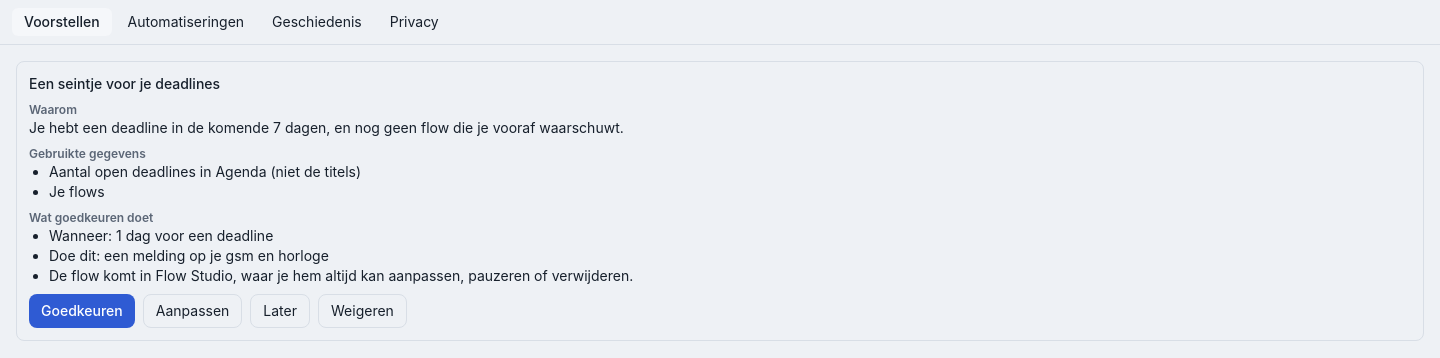
Intelligence app › declines a proposal and keeps the rule quiet
Expected: the heading "Een seintje voor je deadlines" is shown, [29,75,220,92]
Step 1. Click the button "Weigeren" → click(362, 311), box [318,294,407,328]
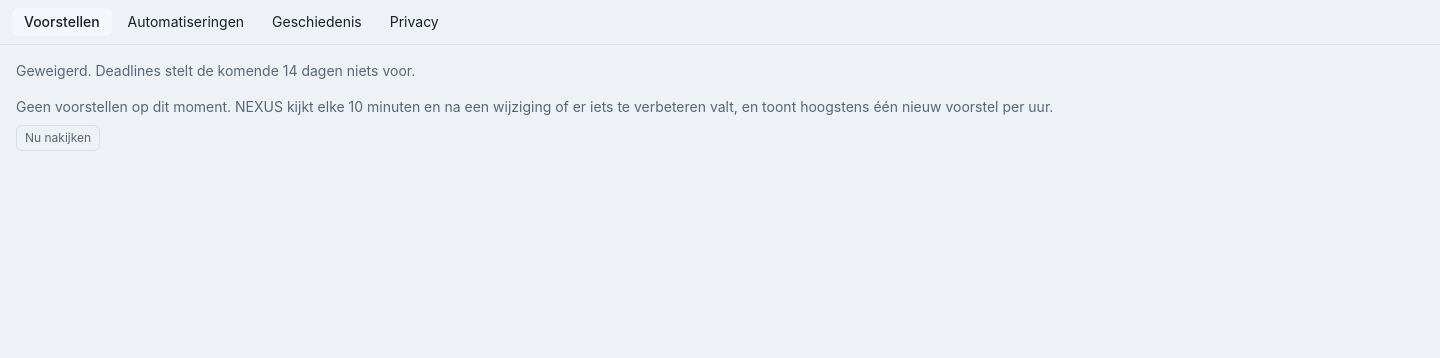
Result: the message shows "14 dagen" at [16,62,415,79]
Step 2. Click the tab "Geschiedenis" → click(317, 22), box [260,8,374,36]
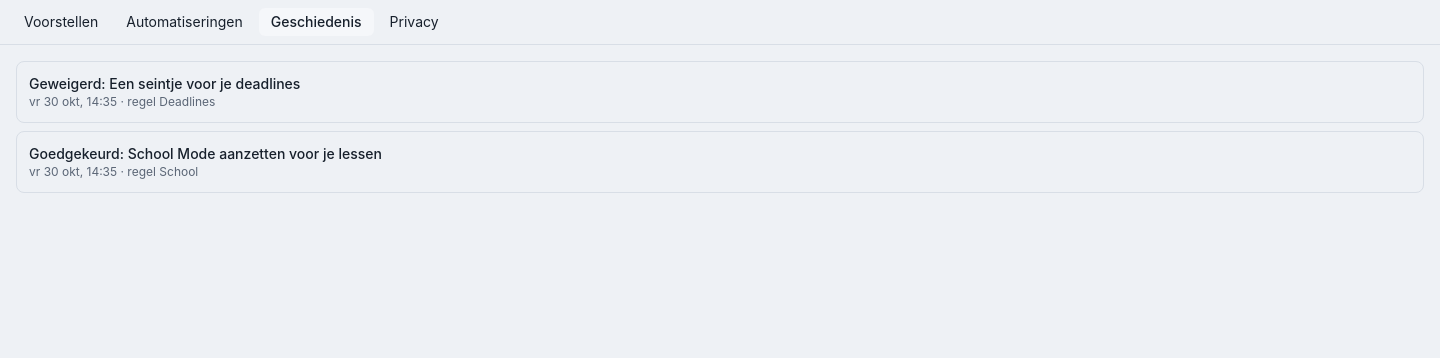
Result: the text "Geweigerd: Een seintje voor je deadlines" is shown at [29,75,300,92]
Result: the text "Goedgekeurd: School Mode aanzetten voor je lessen" is shown at [29,145,382,162]
